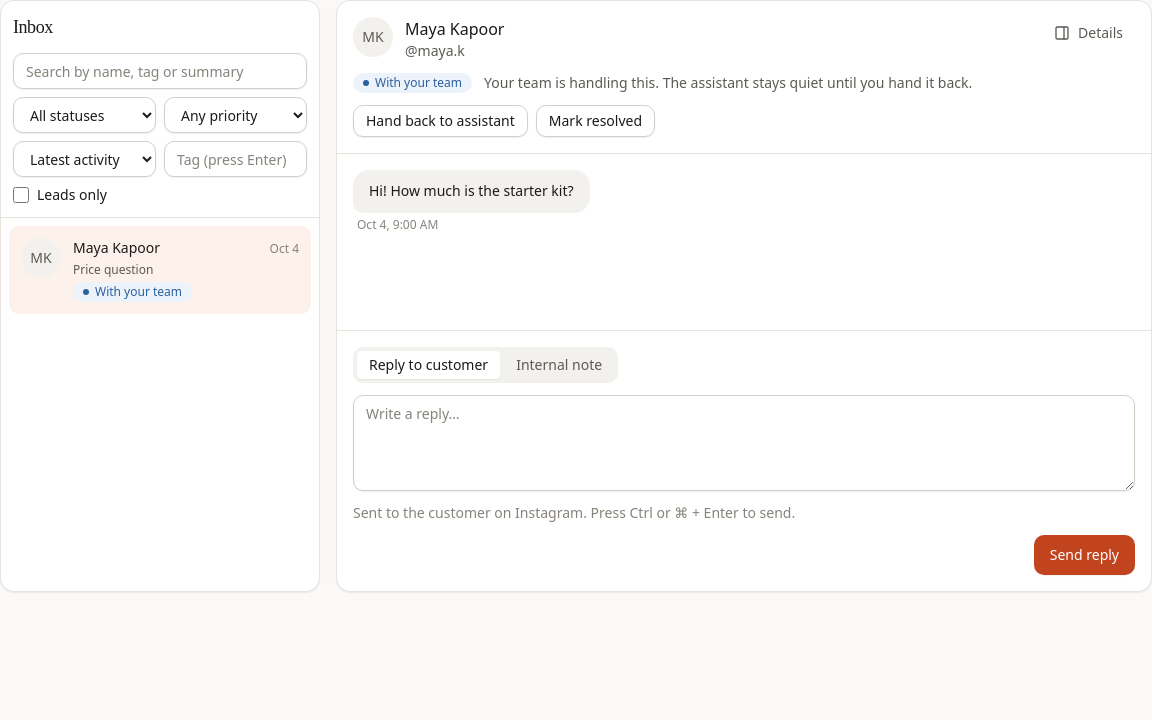
Scenario: sending a reply › keeps what you wrote, and re-syncs, when the server says the conversation is no longer yours
The width and height of the screenshot is (1152, 720).
Type "Happy to help!" into the text box named "Reply to customer" at [744, 443], box [353,395,1135,491]
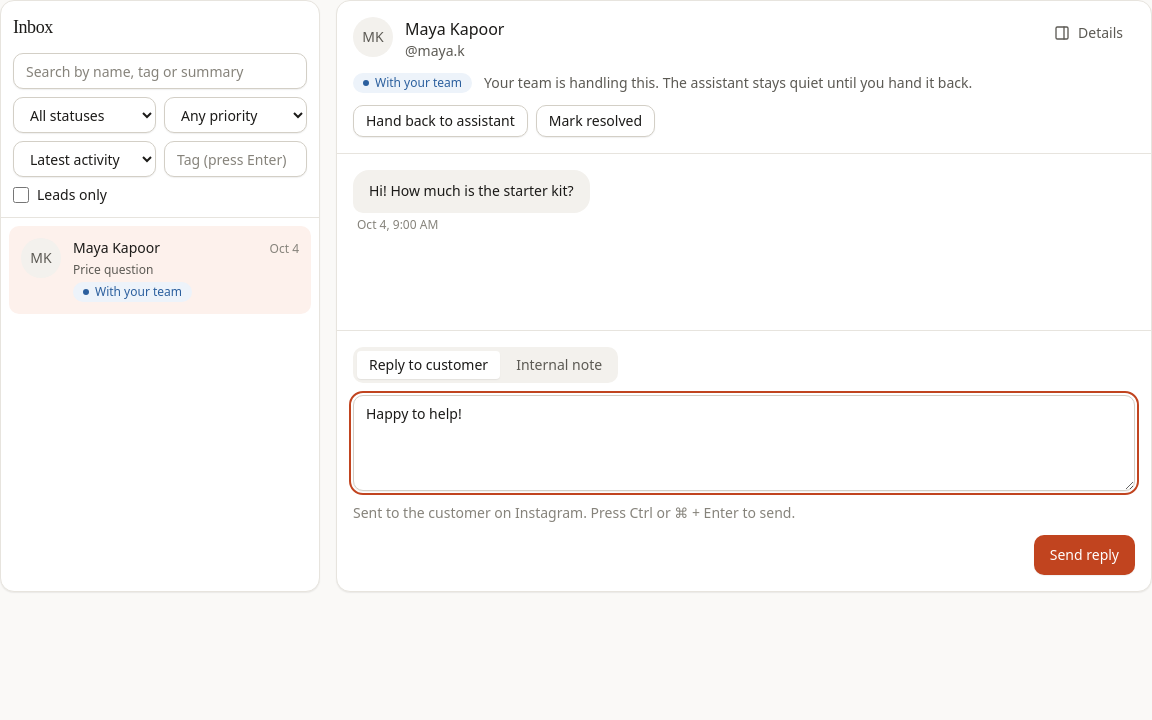
Click the button "Send reply" at [1084, 555], box [1034,535,1135,575]
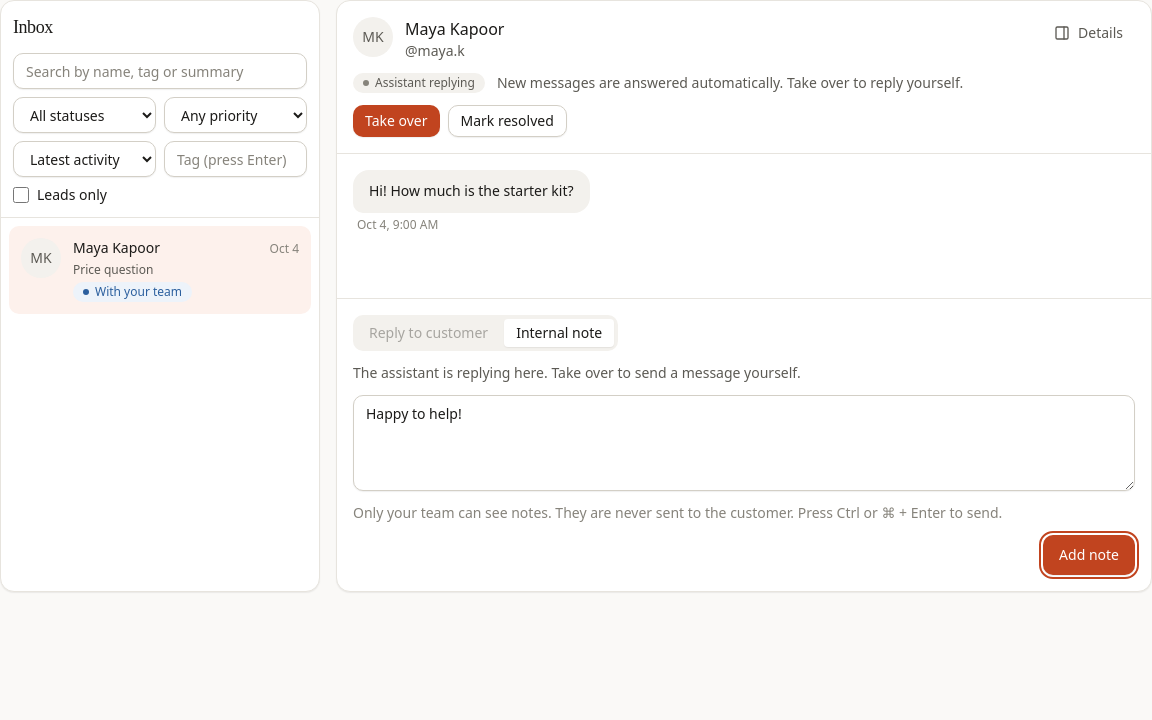
Check: the text "The assistant is replying here. Take over to send a message yourself." is shown, box [353,363,801,382]
